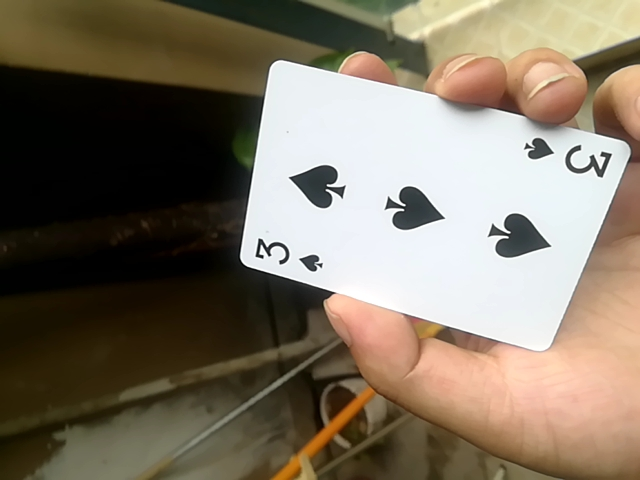ht 3: (230, 56, 630, 357)
